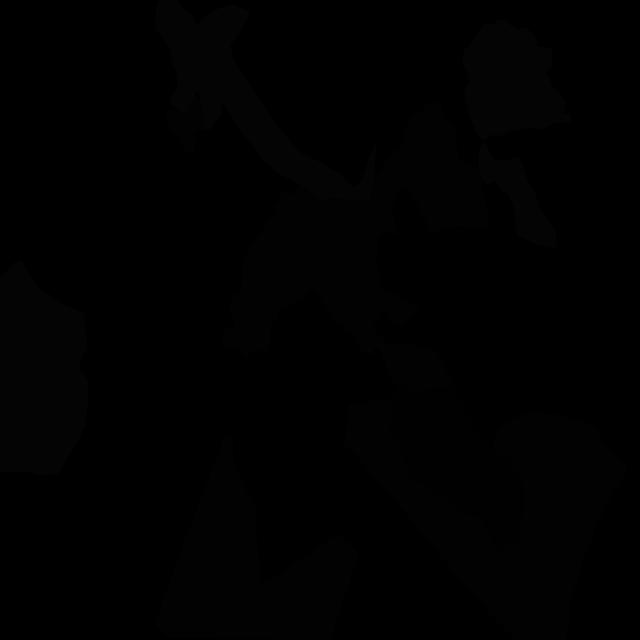cardboard: (342, 398, 628, 640), (154, 433, 359, 640), (222, 186, 381, 358), (326, 102, 488, 263), (354, 334, 455, 393), (339, 286, 421, 345), (166, 97, 205, 153)
rigid_plastic: (389, 387, 524, 553)
soft_plastic: (155, 0, 376, 203), (0, 260, 88, 476), (462, 19, 572, 141), (478, 142, 556, 249)
